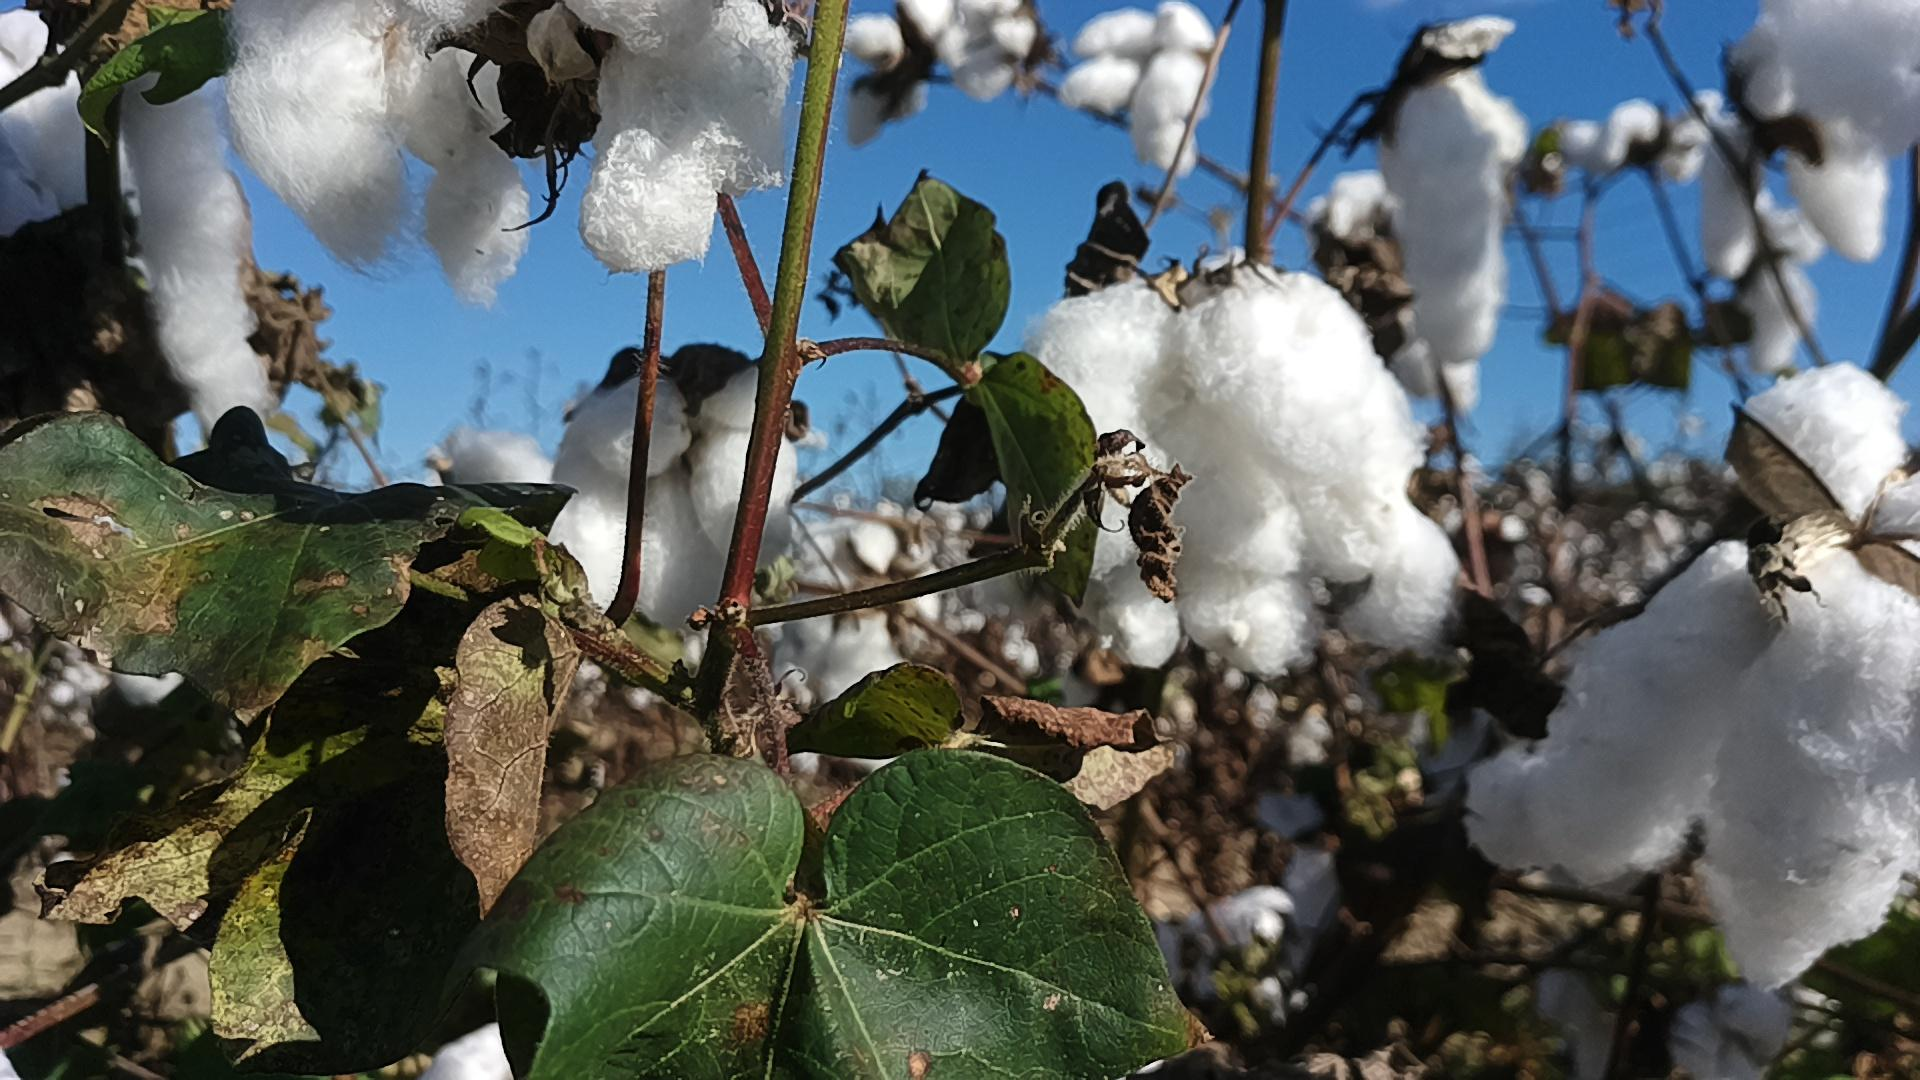cotton_ready: (1523, 365, 1920, 997), (1030, 245, 1414, 579), (224, 0, 535, 306), (551, 365, 798, 684), (1096, 496, 1461, 673), (1696, 0, 1920, 277), (574, 0, 793, 276), (117, 71, 276, 446), (1379, 16, 1528, 365), (1158, 795, 1341, 990), (0, 5, 144, 239), (1530, 963, 1808, 1080), (775, 526, 935, 715), (1062, 3, 1213, 177), (1724, 218, 1821, 369), (848, 0, 949, 142), (1308, 175, 1406, 289), (934, 4, 1038, 105), (1390, 297, 1481, 410), (407, 433, 554, 497), (1469, 745, 1538, 870), (419, 1015, 526, 1080)
